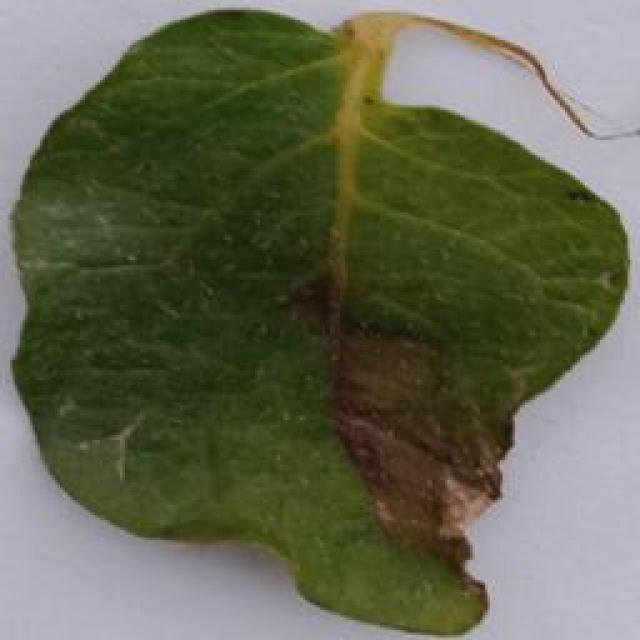Potato_Late_Blight: (10, 8, 625, 634)
